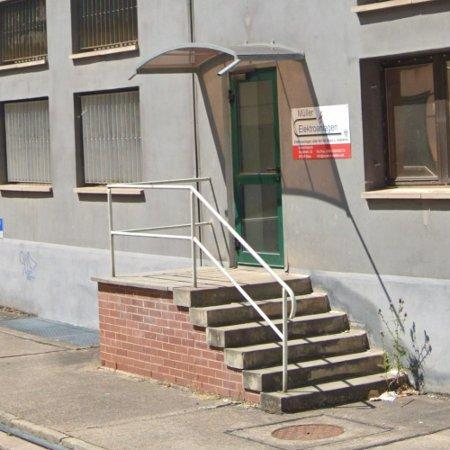stairs: (174, 277, 388, 414), (244, 282, 281, 327)
